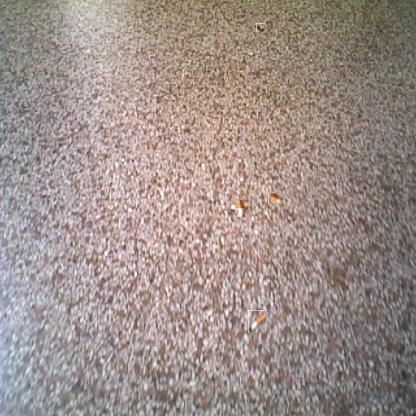dirty: (248, 310, 267, 333), (232, 199, 247, 215), (268, 192, 281, 204), (256, 23, 265, 32)
